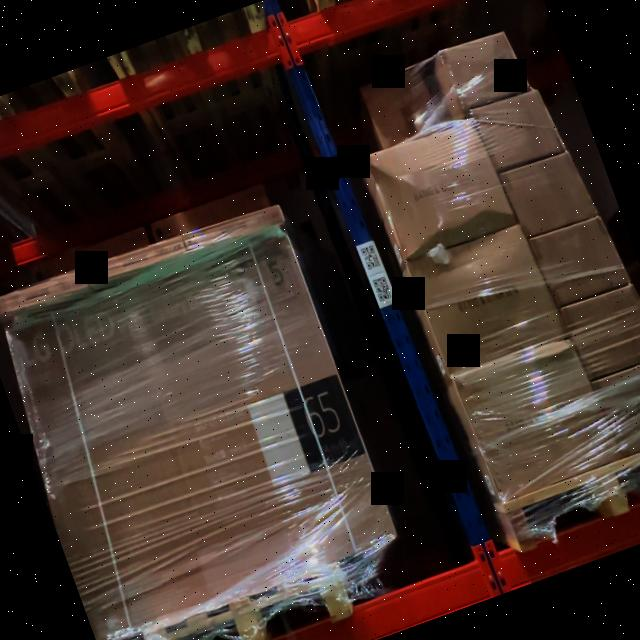box: (4, 222, 399, 640), (455, 336, 616, 500), (410, 224, 560, 375), (369, 119, 509, 259), (535, 216, 624, 306), (504, 152, 592, 238), (564, 284, 640, 379), (150, 183, 268, 243), (28, 225, 150, 282), (476, 89, 560, 171), (442, 29, 524, 110), (362, 68, 442, 148), (183, 201, 285, 256), (86, 234, 186, 288), (0, 266, 90, 323), (598, 356, 640, 456)
